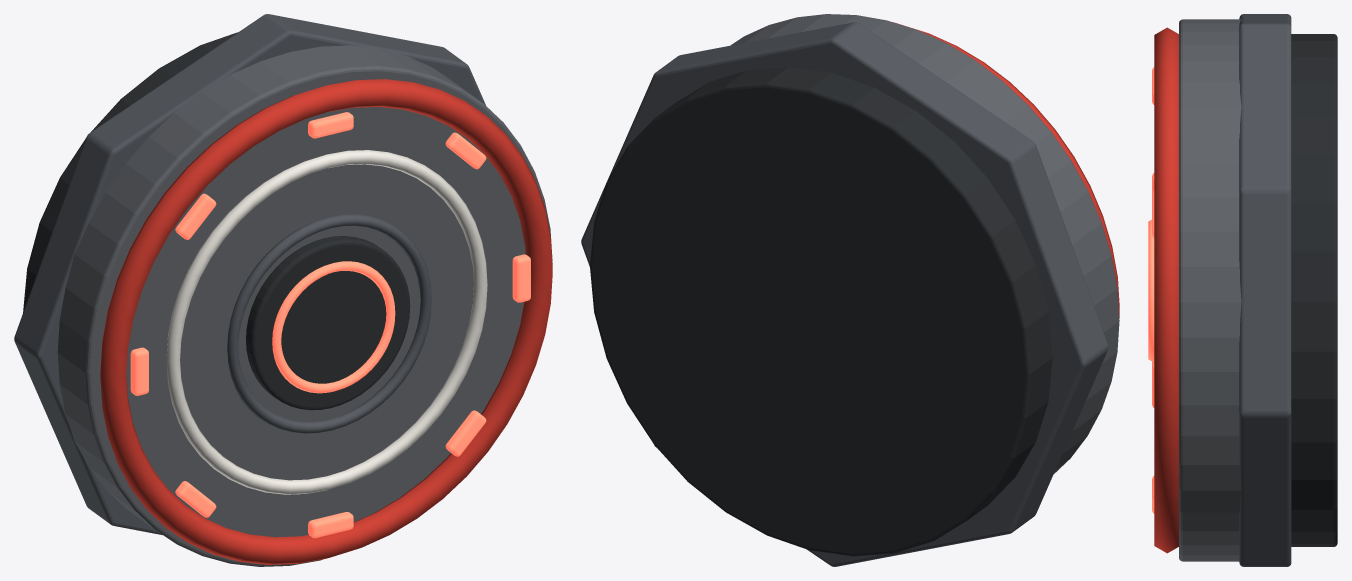
The model's file is HeavyTarget.fbx.
The picture shows the model from 3 angles, left to right: view 1: azimuth 30°, elevation 25°; view 2: azimuth 150°, elevation 25°; view 3: azimuth 270°, elevation 25°; orthographic projection.
Visible parts, largest first — view 1: OuterPadding.001, RingOuter, StructuralFrame, Core.001, RingMiddle, RingInner, CoreAccent, RearHousing.002, DamageSegment_03, DamageSegment_07, DamageSegment_06, DamageSegment_02 (+4 smaller); view 2: RearHousing.002, StructuralFrame, OuterPadding.001, RingOuter; view 3: OuterPadding.001, StructuralFrame, RearHousing.002, RingOuter, CoreAccent.
Boxes of the visible parts, left/top/right/bottom form: OuterPadding.001: left=57, top=45, right=552, bottom=566; RingOuter: left=100, top=79, right=552, bottom=564; StructuralFrame: left=14, top=14, right=485, bottom=535; Core.001: left=246, top=236, right=410, bottom=410; RingMiddle: left=166, top=150, right=487, bottom=494; RingInner: left=227, top=214, right=431, bottom=433; CoreAccent: left=272, top=261, right=395, bottom=393; RearHousing.002: left=23, top=32, right=237, bottom=312; DamageSegment_03: left=445, top=410, right=486, bottom=456; DamageSegment_07: left=175, top=193, right=216, bottom=239; DamageSegment_06: left=130, top=347, right=148, bottom=395; DamageSegment_02: left=512, top=254, right=530, bottom=302; RearHousing.002: left=590, top=67, right=1052, bottom=556; StructuralFrame: left=581, top=22, right=1108, bottom=566; OuterPadding.001: left=731, top=14, right=1119, bottom=473; RingOuter: left=894, top=22, right=1119, bottom=318; OuterPadding.001: left=1179, top=19, right=1241, bottom=561; StructuralFrame: left=1239, top=14, right=1291, bottom=566; RearHousing.002: left=1291, top=34, right=1337, bottom=546; RingOuter: left=1154, top=27, right=1178, bottom=553; CoreAccent: left=1148, top=219, right=1154, bottom=361.
Bounding box in the file's own units: 203 × 203 × 65.56.
